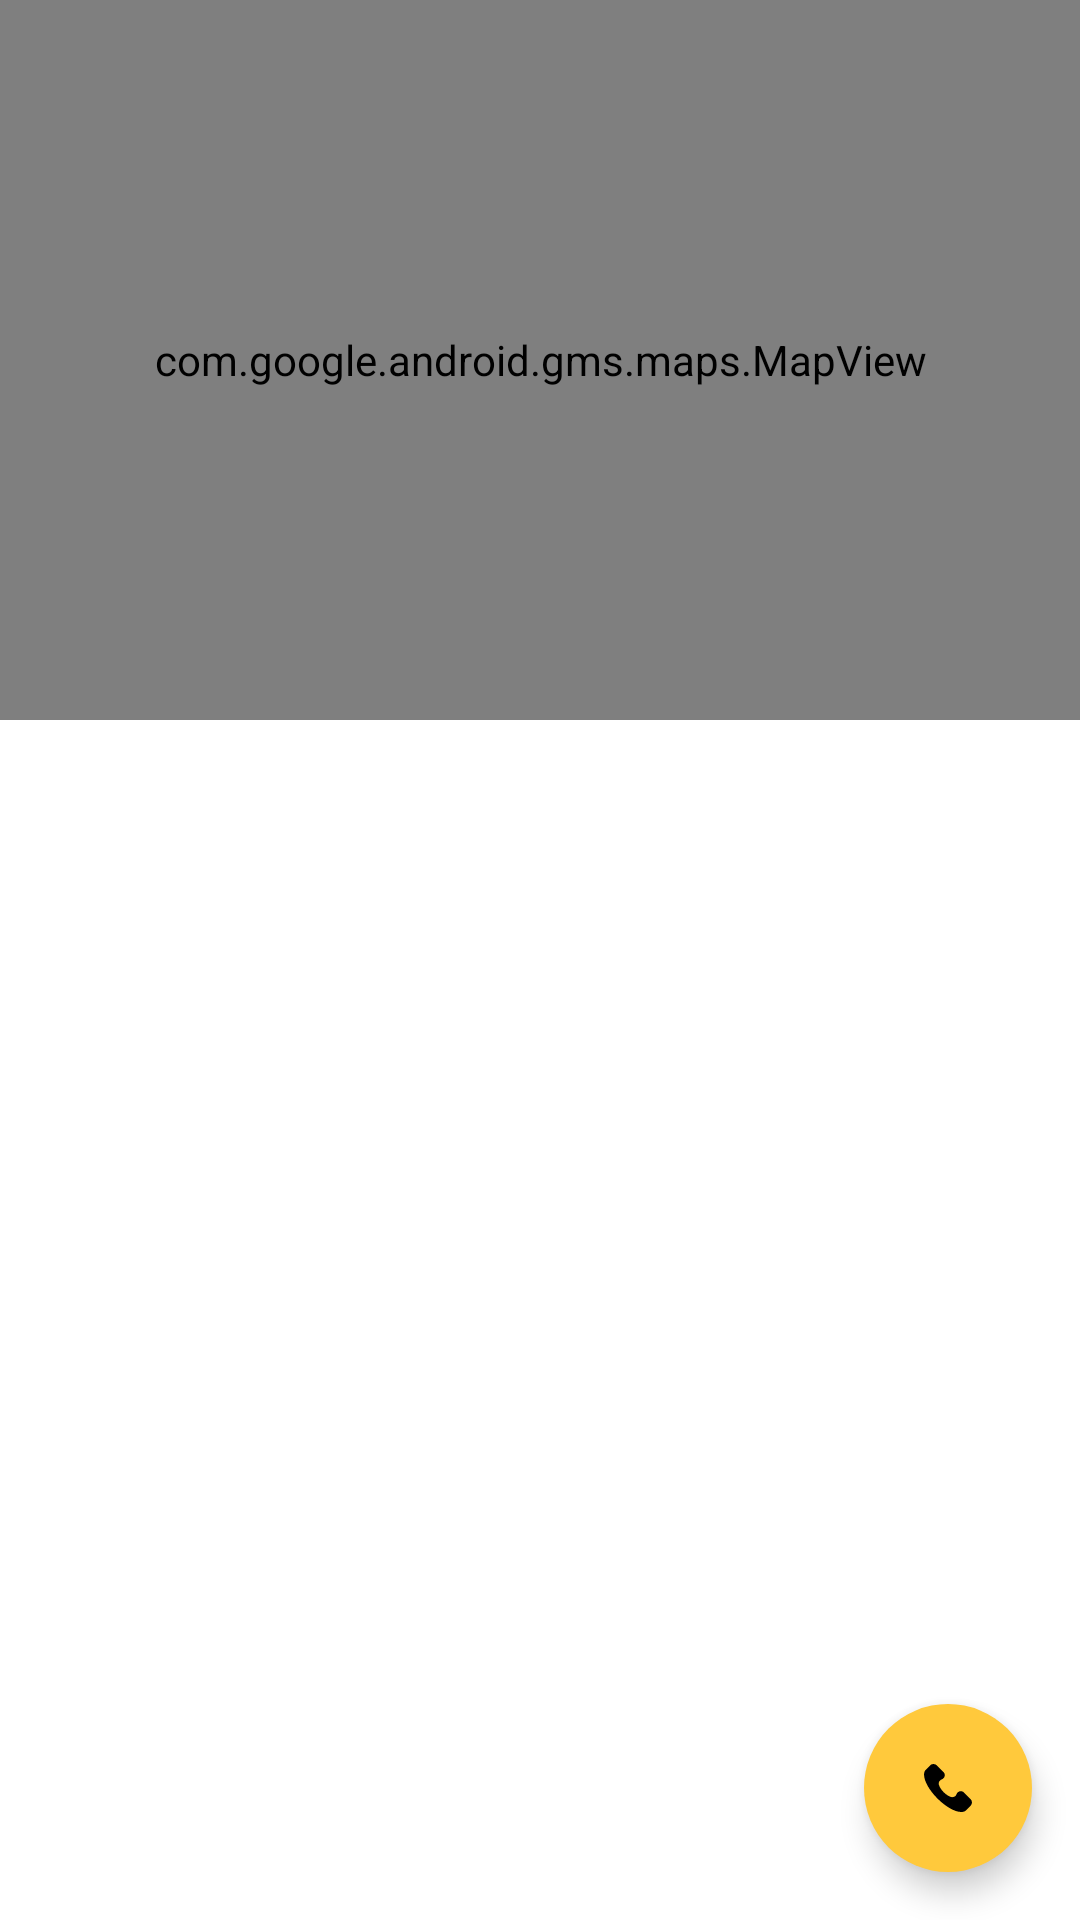

Where to tap for icons on this 1080px×1920px app screen, as [x,y]:
call: [948,1788]
